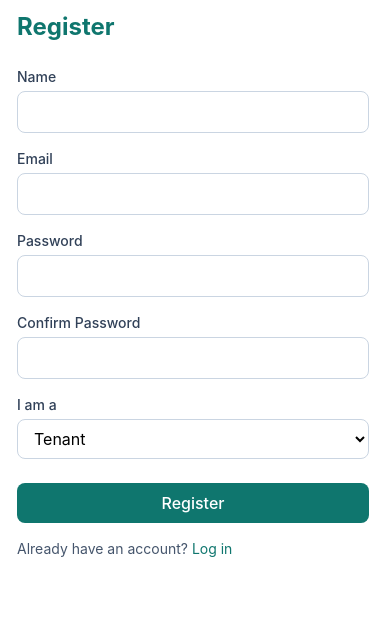
Test: Register page › shows a message when registration fails
The image size is (387, 634).
Step 1. Type "Amina" into the field labelled "Name" → (193, 112), box [17,91,369,133]
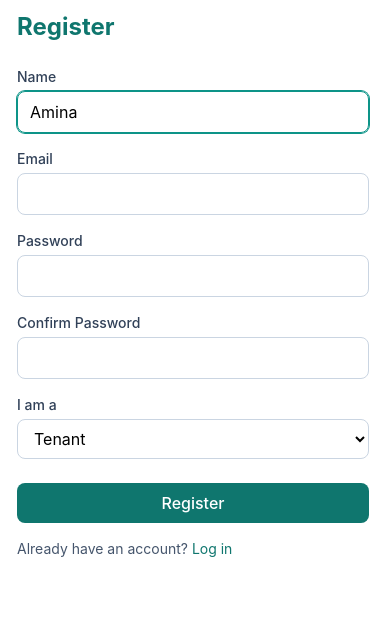
Step 2. Type "amina@example.com" into the field labelled "Email" → (193, 194), box [17,173,369,215]
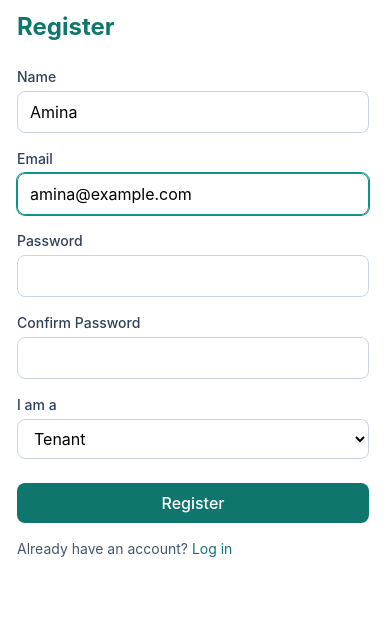
Step 3. Type "secret123" into the password field labelled "Password" → (193, 276), box [17,255,369,297]
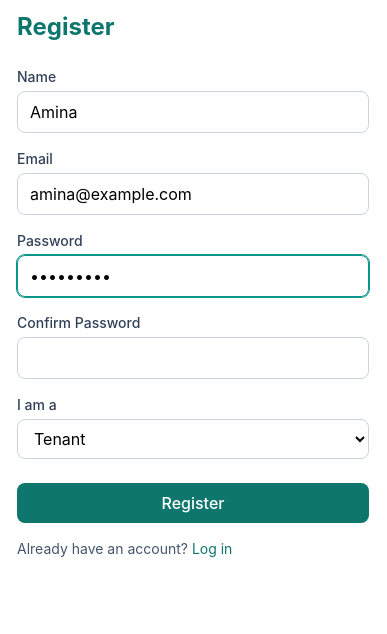
Step 4. Type "secret123" into the password field labelled "Confirm Password" → (193, 358), box [17,337,369,379]
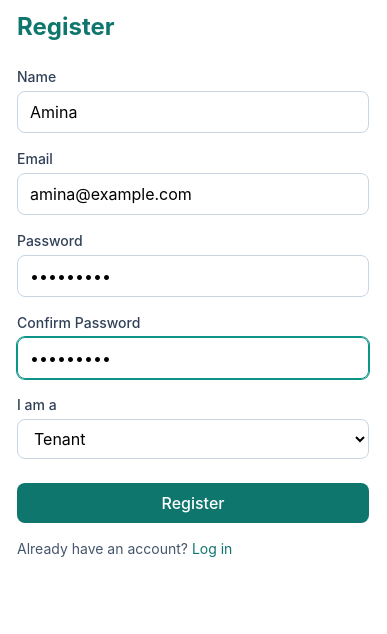
Step 5. Click the button "Register" → (193, 503), box [17,483,369,523]
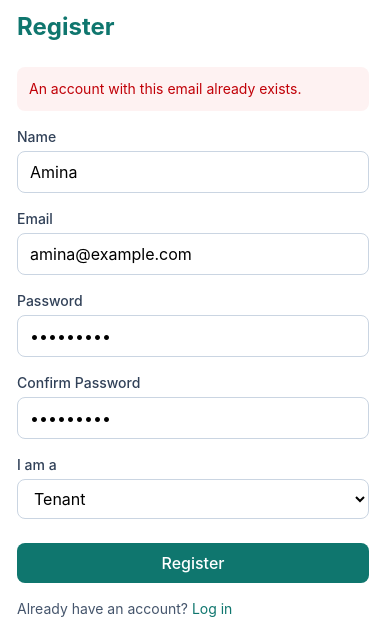
Result: the message reads "An account with this email already exists." at [29,80,302,97]
